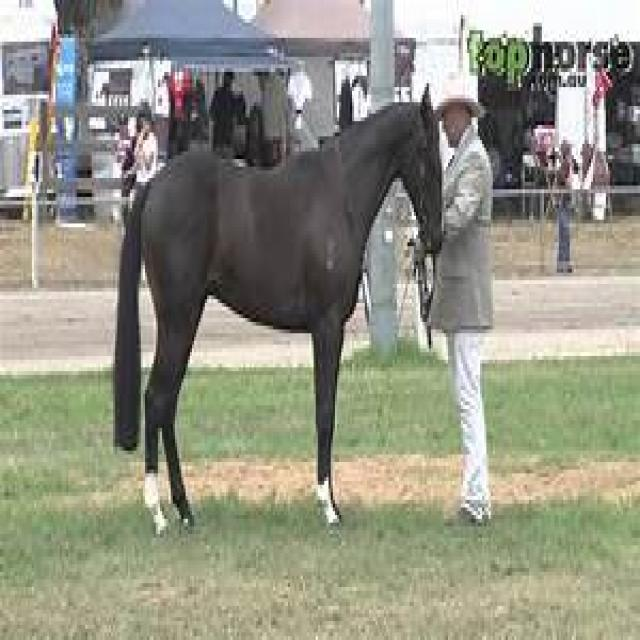animal: (113, 84, 442, 538)
